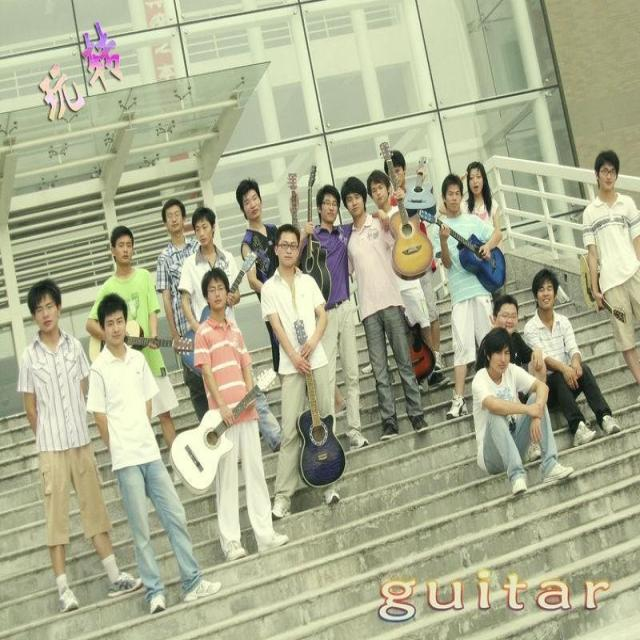guitar: (172, 367, 278, 497), (291, 318, 350, 489), (181, 252, 259, 370), (376, 139, 436, 281), (418, 208, 508, 292), (88, 319, 194, 363), (301, 164, 330, 310), (578, 251, 629, 329), (396, 302, 437, 382), (401, 150, 438, 216), (288, 172, 298, 226)
